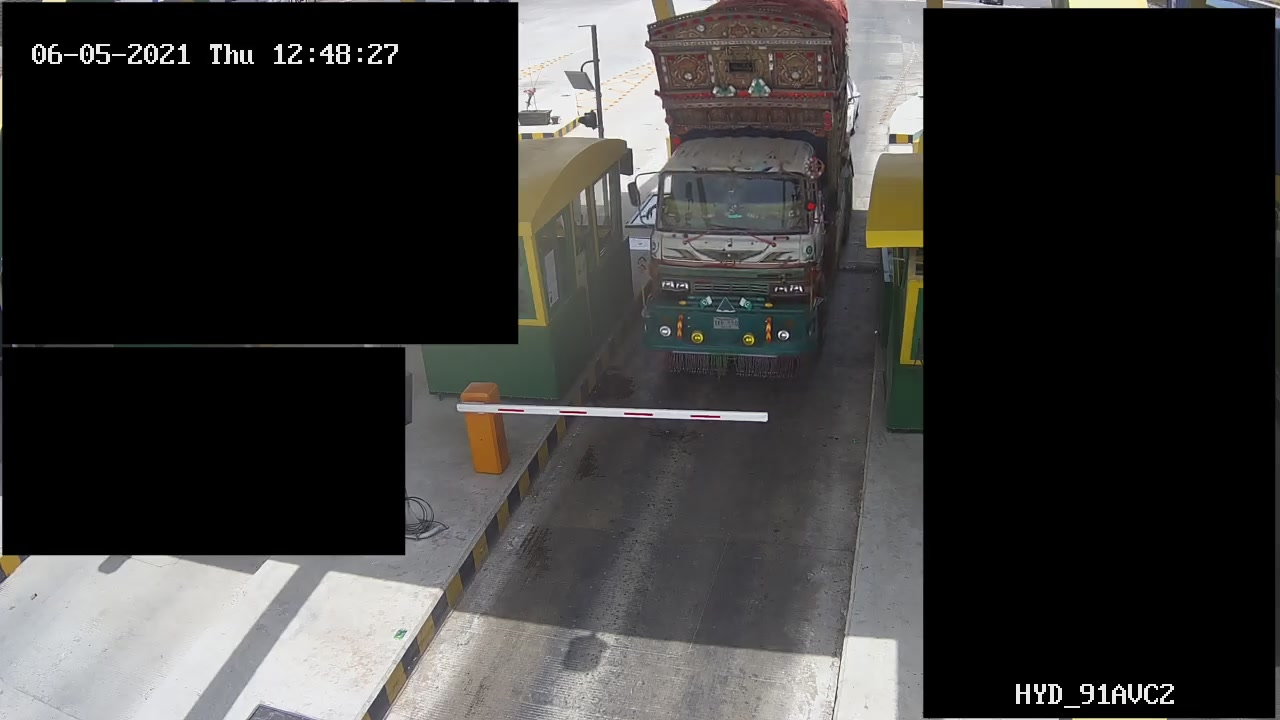F5: (632, 2, 860, 377)
